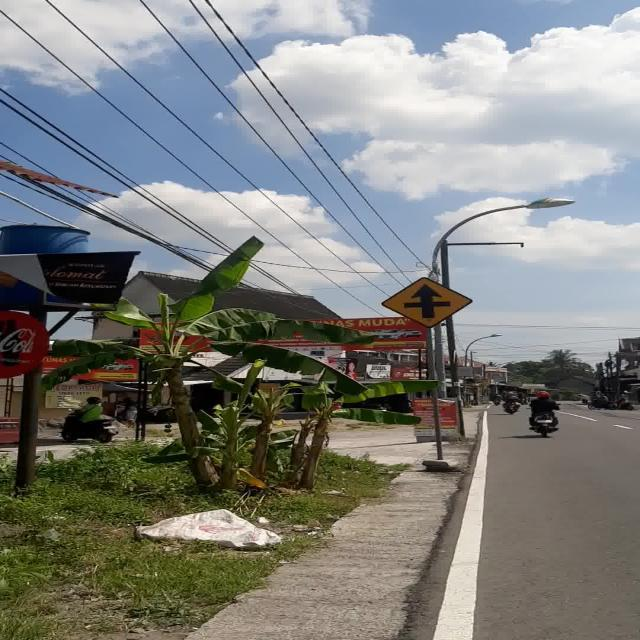Persimpangan 3 Prioritas: (381, 276, 473, 328)
